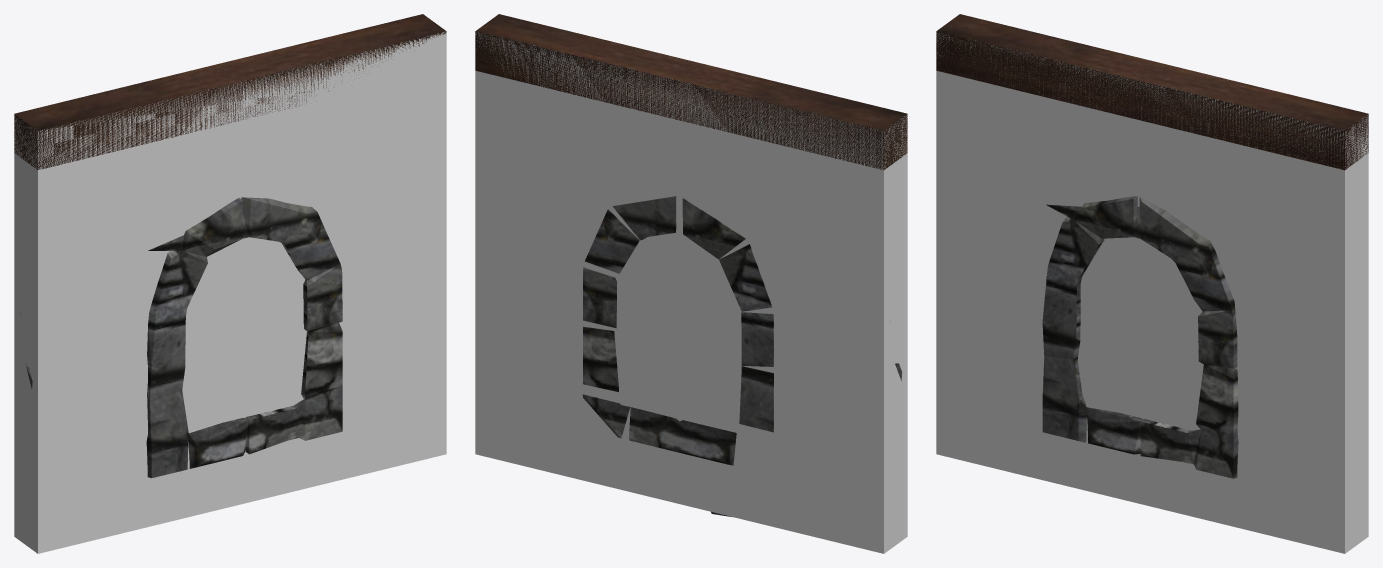
File: Window Closed.fbx
3 views of the same model, side by side, from view 1: azimuth 30°, elevation 25°; view 2: azimuth 150°, elevation 25°; view 3: azimuth 330°, elevation 25° (orthographic).
Parts seen in each view (by area): view 1: Cube, Window Closed; view 2: Cube, Window Closed; view 3: Cube, Window Closed.
Part boxes in pixels (left/top/right/bottom): Cube: left=14, top=31, right=446, bottom=553; Window Closed: left=14, top=14, right=446, bottom=478; Cube: left=475, top=32, right=907, bottom=553; Window Closed: left=475, top=14, right=907, bottom=516; Cube: left=936, top=31, right=1368, bottom=553; Window Closed: left=936, top=14, right=1368, bottom=478.
Bounding box in the file's own units: 1058 × 1059 × 124.
Materials: 1 (1 with a texture image).
